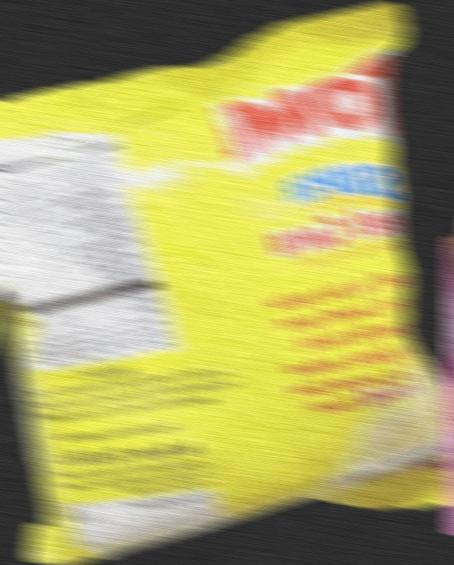Tomi: (0, 1, 454, 564)
creamsilk: (446, 185, 454, 565)
